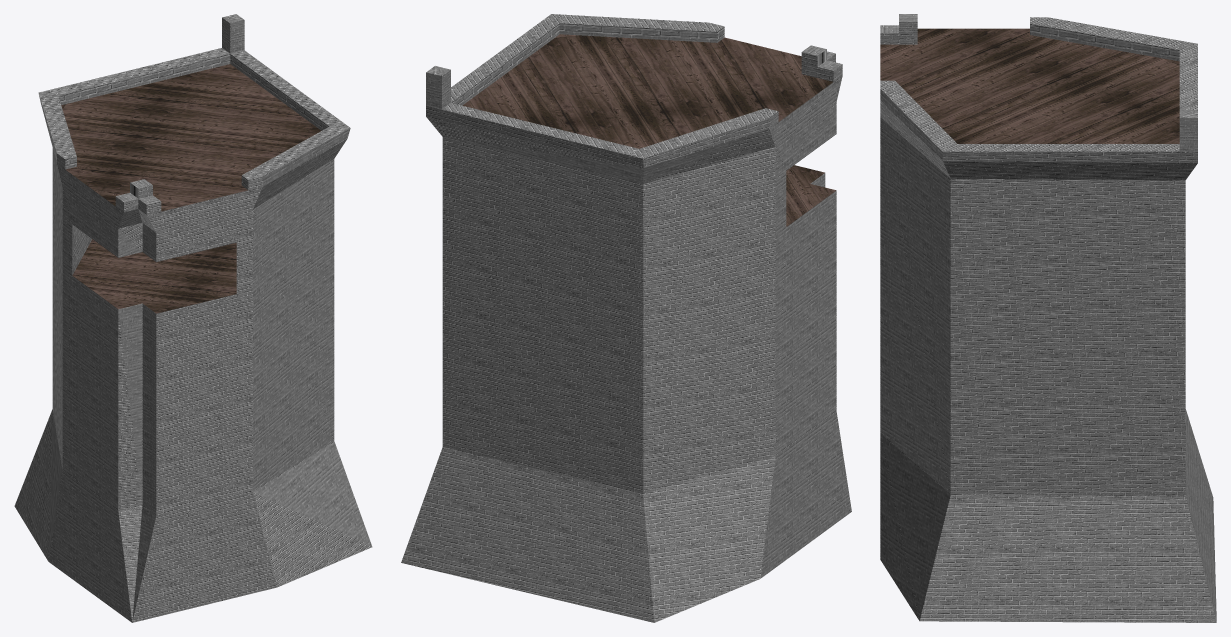
File: TallBastion.fbx
3 views of the same model, side by side, from view 1: azimuth 30°, elevation 25°; view 2: azimuth 150°, elevation 25°; view 3: azimuth 270°, elevation 25° (orthographic). The views are drawn at different scales.
Visible parts, largest first — view 1: TallBastion; view 2: TallBastion; view 3: TallBastion.
Part boxes in pixels (x1,y1,x2,y2): TallBastion: (14, 14, 372, 622); TallBastion: (401, 14, 851, 622); TallBastion: (880, 14, 1216, 622).
Size of the model in its own units: 1351 by 2200 by 1350.
